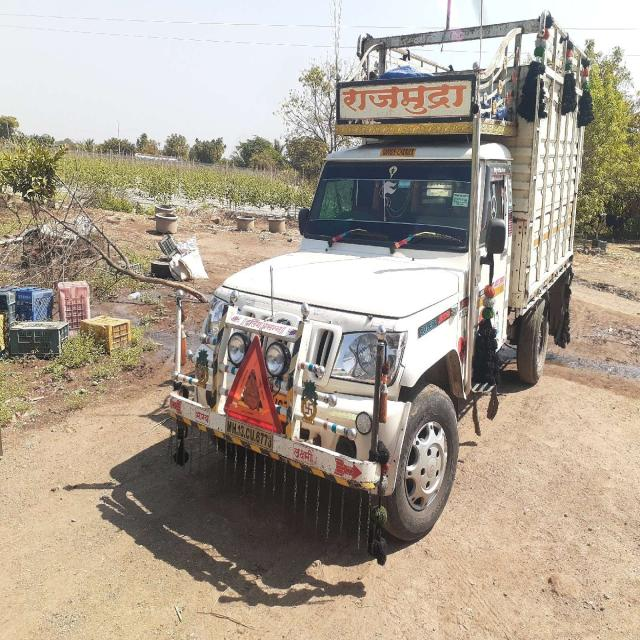light_vehicle: (165, 117, 586, 466)
